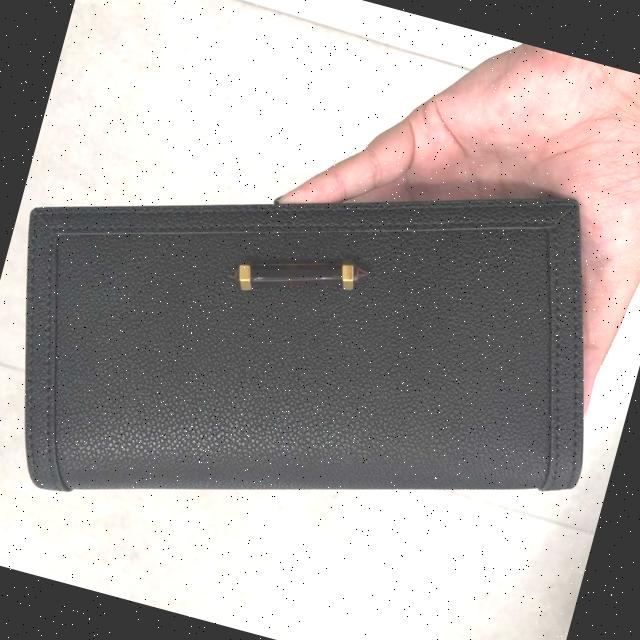Handbag: (0, 63, 640, 629)
